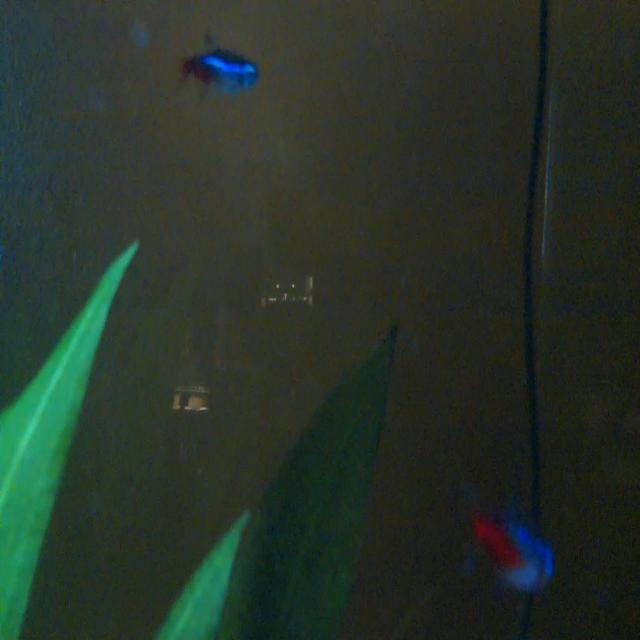fish: (164, 27, 274, 109)
